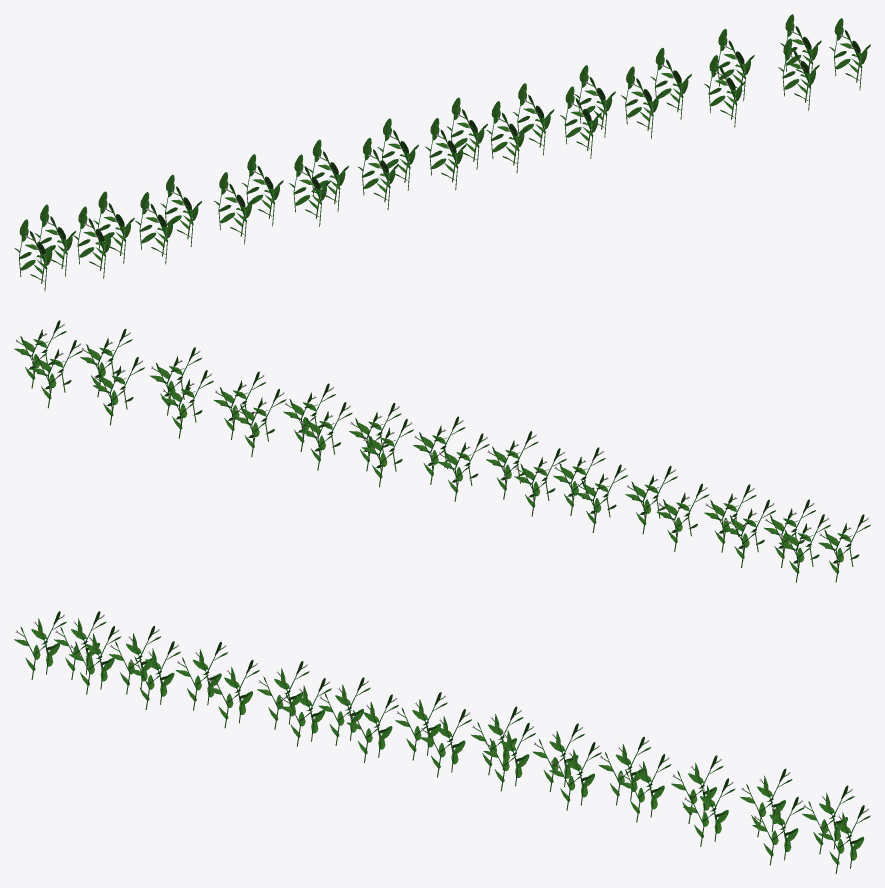
File: WinterPea.fbx
The picture shows the model from 3 angles, top to bottom: view 1: azimuth 30°, elevation 25°; view 2: azimuth 150°, elevation 25°; view 3: azimuth 330°, elevation 25°; orthographic projection.
Visible parts, largest first — view 1: WinterPea.024; view 2: WinterPea.024; view 3: WinterPea.024.
Part boxes in pixels (bbox=[...]): WinterPea.024: bbox=[14, 14, 870, 291]; WinterPea.024: bbox=[14, 320, 870, 582]; WinterPea.024: bbox=[14, 611, 870, 873].
Size of the model in its own units: 330 by 20.1 by 39.66.
